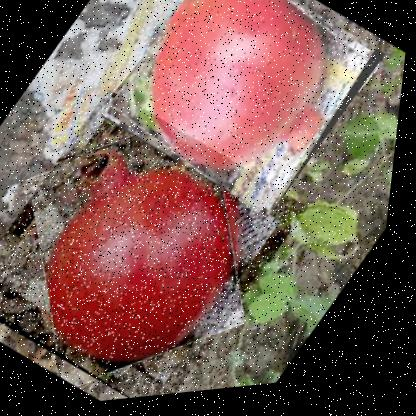pomegranate: (0, 71, 326, 415), (92, 0, 396, 236)
